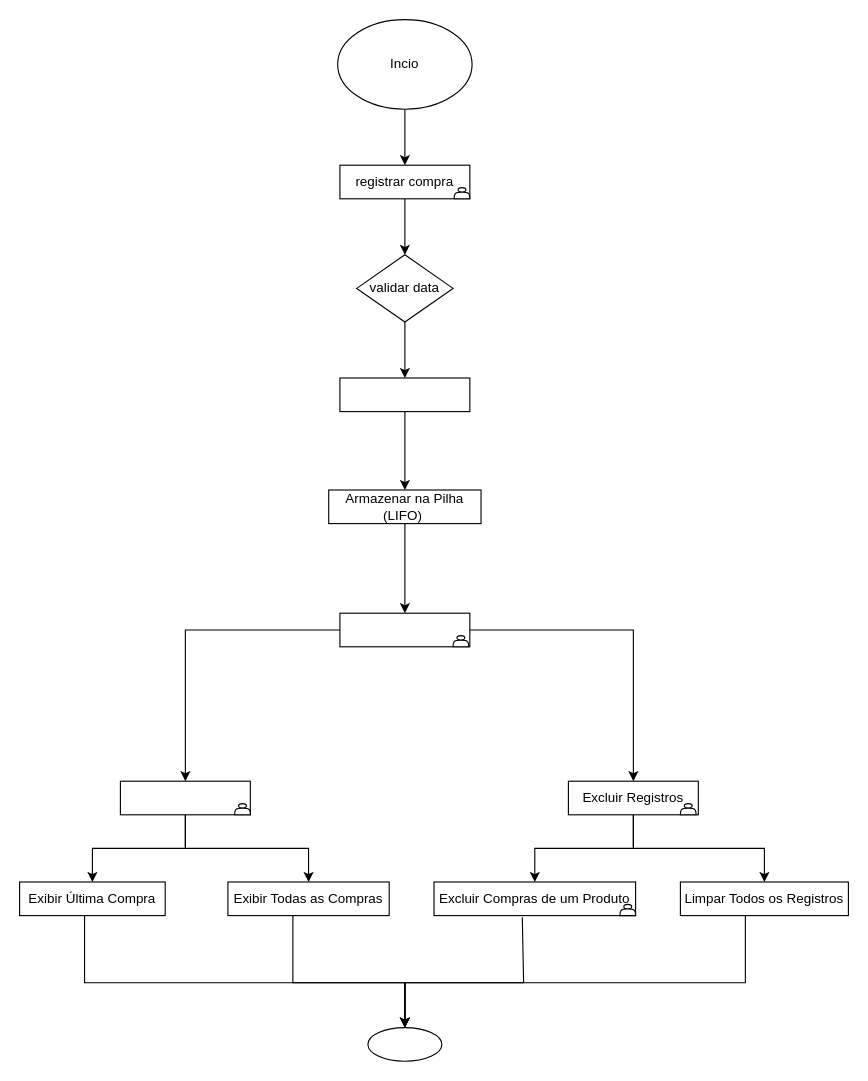
Image size: 868x1081. Some labels were removed from this diagram. The shapes that lost their labels are listed below. From the top down, each one's box as (x1, y1, x2, y2) in pixels, then its label:
(339, 377, 470, 412): atualizar estoque
(339, 612, 470, 647): Consultar Histórico
(119, 780, 250, 815): Buscar Compras de um Produto
(367, 1026, 442, 1061): Fim
